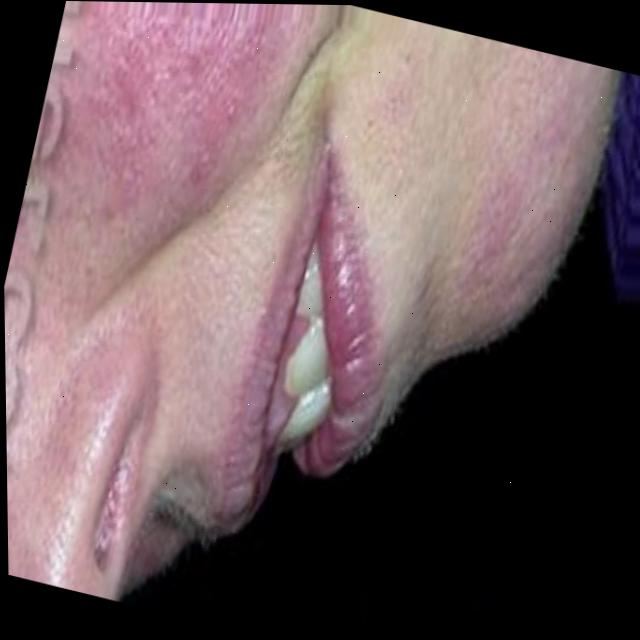Rosacea: (41, 1, 286, 261), (450, 66, 598, 310), (5, 334, 130, 586)
